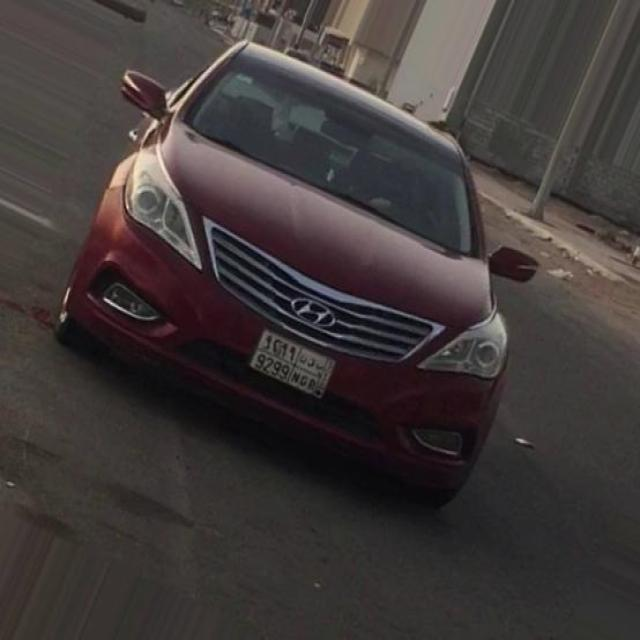Car-plate: (246, 319, 343, 405)
